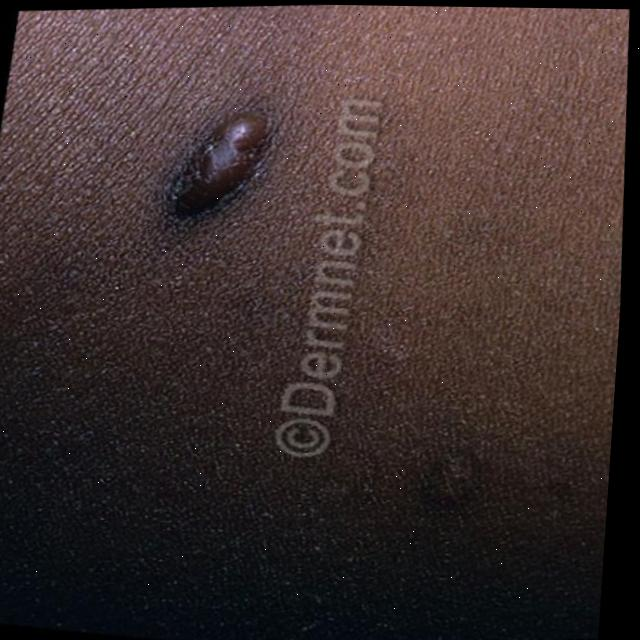Eczema: (207, 118, 281, 200)
